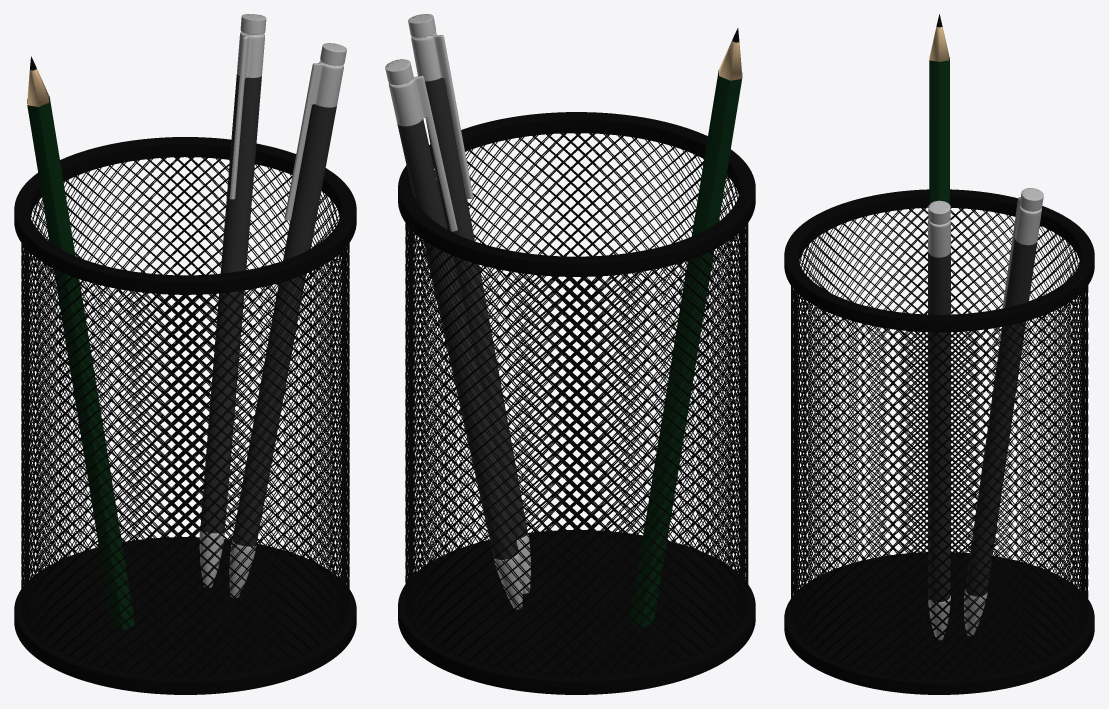
File: pencup.glb
3 renders of one model, left to right at view 1: azimuth 30°, elevation 25°; view 2: azimuth 150°, elevation 25°; view 3: azimuth 270°, elevation 25°, orthographic. The views are drawn at different scales.
Parts seen in each view (by area): view 1: Cylinder_0, Cylinder.001_1, Cylinder.002_2, Cylinder.009_9, Cylinder.003_3, Cylinder.006_6, Cylinder.005_5, Cylinder.008_8, Cylinder.007_7, Cylinder.004_4, Cylinder.011_10; view 2: Cylinder_0, Cylinder.001_1, Cylinder.002_2, Cylinder.009_9, Cylinder.006_6, Cylinder.003_3, Cylinder.008_8, Cylinder.005_5, Cylinder.007_7, Cylinder.011_10; view 3: Cylinder_0, Cylinder.001_1, Cylinder.002_2, Cylinder.006_6, Cylinder.003_3, Cylinder.009_9, Cylinder.008_8, Cylinder.005_5, Cylinder.011_10, Cylinder.007_7.
Boxes of the visible parts, bbox=[...] form: Cylinder_0: bbox=[21, 157, 349, 678]; Cylinder.001_1: bbox=[14, 537, 356, 694]; Cylinder.002_2: bbox=[14, 137, 356, 294]; Cylinder.009_9: bbox=[27, 96, 134, 629]; Cylinder.003_3: bbox=[232, 104, 336, 546]; Cylinder.006_6: bbox=[200, 74, 261, 533]; Cylinder.005_5: bbox=[284, 43, 346, 220]; Cylinder.008_8: bbox=[229, 14, 266, 199]; Cylinder.007_7: bbox=[199, 530, 224, 587]; Cylinder.004_4: bbox=[229, 540, 256, 597]; Cylinder.011_10: bbox=[27, 56, 49, 106]; Cylinder_0: bbox=[405, 133, 748, 677]; Cylinder.001_1: bbox=[398, 530, 755, 694]; Cylinder.002_2: bbox=[398, 112, 755, 276]; Cylinder.009_9: bbox=[630, 70, 742, 626]; Cylinder.006_6: bbox=[397, 119, 518, 559]; Cylinder.003_3: bbox=[425, 78, 526, 538]; Cylinder.008_8: bbox=[385, 59, 457, 231]; Cylinder.005_5: bbox=[408, 14, 473, 198]; Cylinder.007_7: bbox=[493, 552, 522, 609]; Cylinder.011_10: bbox=[719, 28, 741, 80]; Cylinder_0: bbox=[791, 207, 1088, 679]; Cylinder.001_1: bbox=[784, 552, 1094, 694]; Cylinder.002_2: bbox=[784, 189, 1094, 332]; Cylinder.006_6: bbox=[965, 238, 1037, 596]; Cylinder.003_3: bbox=[928, 252, 950, 602]; Cylinder.009_9: bbox=[929, 57, 949, 204]; Cylinder.008_8: bbox=[1002, 188, 1043, 308]; Cylinder.005_5: bbox=[928, 200, 950, 257]; Cylinder.011_10: bbox=[929, 14, 949, 61]; Cylinder.007_7: bbox=[964, 589, 987, 635].
Size of the model in its own units: 1.71 by 3.1 by 1.59.
